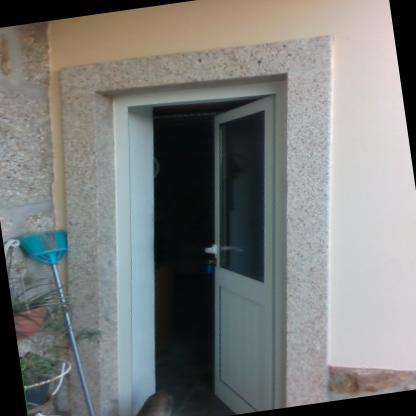semi: (71, 59, 346, 415)
